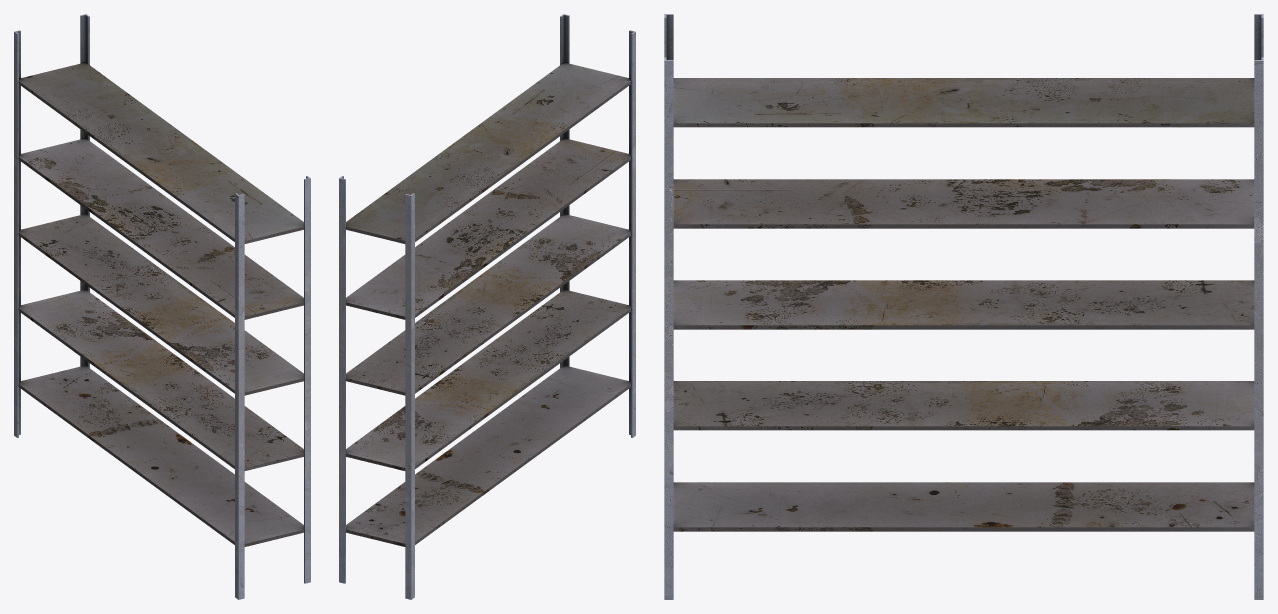
The model's file is regal2.fbx.
3 views of the same model, side by side, from view 1: azimuth 30°, elevation 25°; view 2: azimuth 150°, elevation 25°; view 3: azimuth 270°, elevation 25° (orthographic). The views are drawn at different scales.
Visible parts, largest first — view 1: regal2_Layer1; view 2: regal2_Layer1; view 3: regal2_Layer1.
Boxes of the visible parts, box(x1,y1,x2,y2) form: regal2_Layer1: box(14, 14, 310, 599); regal2_Layer1: box(339, 14, 635, 599); regal2_Layer1: box(664, 14, 1263, 599).
Bounding box in the file's own units: 48 × 256 × 258.
1 material, 1 textured.
